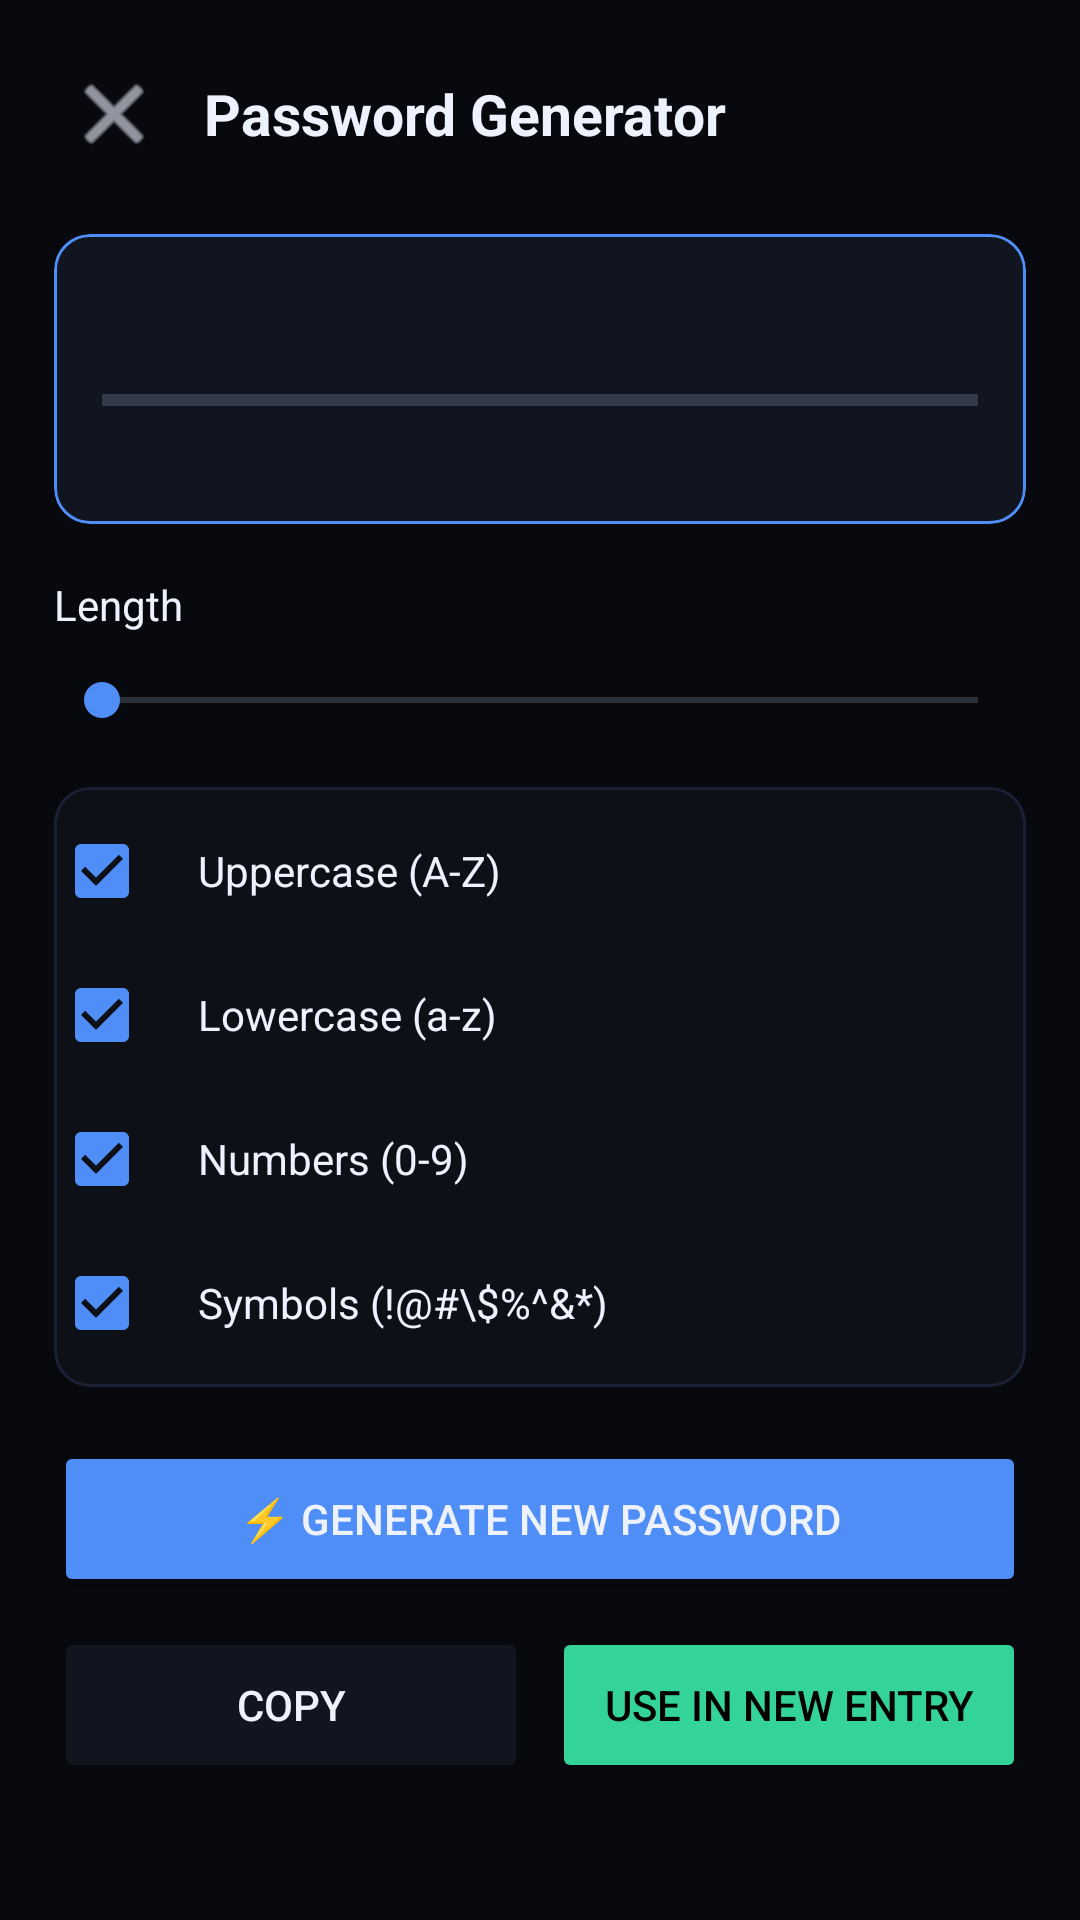

Where to tap for icons on this 1080 x 1920 app screen, as (x,y):
close clear cancel: (114,114)
